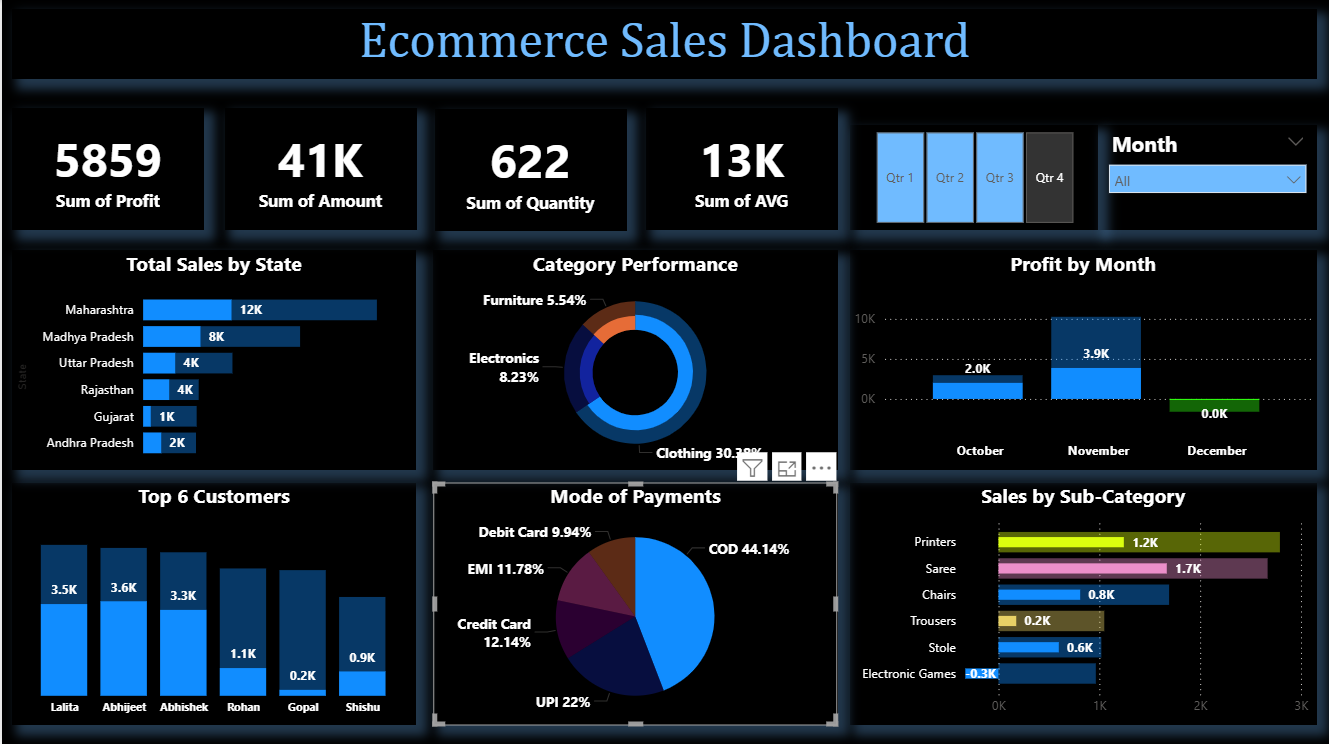

This screenshot's page, from the dashboard's own definition file:
{"tool":"powerbi","page":{"name":"Page 1","canvas":[1280,720],"ordinal":0},"visuals":[{"type":"textbox","box":[9.8,8.5,1259.8,68.3],"z":0},{"type":"card","fields":{"Values":["Details.Profit"]},"box":[9.8,103.7,185.4,118.3],"z":1},{"type":"card","fields":{"Values":["Details.Amount"]},"box":[214.6,103.7,185.4,118.3],"z":2},{"type":"card","fields":{"Values":["Details.Quantity"]},"box":[417.1,104.9,185.4,118.3],"z":3},{"type":"card","fields":{"Values":["Details.AVG"]},"box":[620.7,103.7,185.4,118.3],"z":4},{"type":"clusteredBarChart","title":"Total Sales by State","fields":{"Y":["Details.Amount"],"Category":["Orders.State"]},"box":[9.8,241.5,390.2,212.2],"z":5},{"type":"donutChart","title":"Category Performance","fields":{"Y":["Details.Quantity"],"Category":["Details.Category"]},"box":[415.9,241.5,390.2,212.2],"z":6},{"type":"clusteredBarChart","title":"Sales by Sub-Category","fields":{"Y":["Details.Profit"],"Category":["Details.Sub-Category"]},"box":[818.3,465.9,451.2,234.1],"z":7},{"type":"columnChart","title":"Top 6 Customers","fields":{"Y":["Details.Amount"],"Category":["Orders.CustomerName"]},"box":[10,466,390,234],"z":8},{"type":"pieChart","title":"Mode of Payments","fields":{"Y":["Details.Quantity"],"Category":["Details.PaymentMode"]},"box":[415.9,465.9,390.2,234.1],"z":9},{"type":"columnChart","title":"Profit by Month","fields":{"Category":["Orders.Order Date.Variation.Date Hierarchy.Month"],"Y":["Details.Profit"]},"box":[818.3,241.5,451.2,212.2],"z":10},{"type":"slicer","fields":{"Values":["Orders.Order Date.Variation.Date Hierarchy.Quarter"]},"box":[818.3,120.7,240.2,101.2],"z":11},{"type":"slicer","fields":{"Values":["Orders.Order Date.Variation.Date Hierarchy.Month"]},"box":[1058.5,120.7,211,101.2],"z":12}]}

Visuals, with their boxes in screenshot pixels (x1, y1, x2, y2), scaled from the page's 1280x720 canvas onto the 1329x744 screenshot:
textbox: 10, 9, 1318, 79
card - Details.Profit: 10, 107, 203, 229
card - Details.Amount: 223, 107, 415, 229
card - Details.Quantity: 433, 108, 626, 231
card - Details.AVG: 644, 107, 837, 229
"Total Sales by State" clusteredBarChart: 10, 250, 415, 469
"Category Performance" donutChart: 432, 250, 837, 469
"Sales by Sub-Category" clusteredBarChart: 850, 481, 1318, 723
"Top 6 Customers" columnChart: 10, 482, 415, 723
"Mode of Payments" pieChart: 432, 481, 837, 723
"Profit by Month" columnChart: 850, 250, 1318, 469
slicer - Orders.Order Date.Variation.Date Hierarchy.Quarter: 850, 125, 1099, 229
slicer - Orders.Order Date.Variation.Date Hierarchy.Month: 1099, 125, 1318, 229
